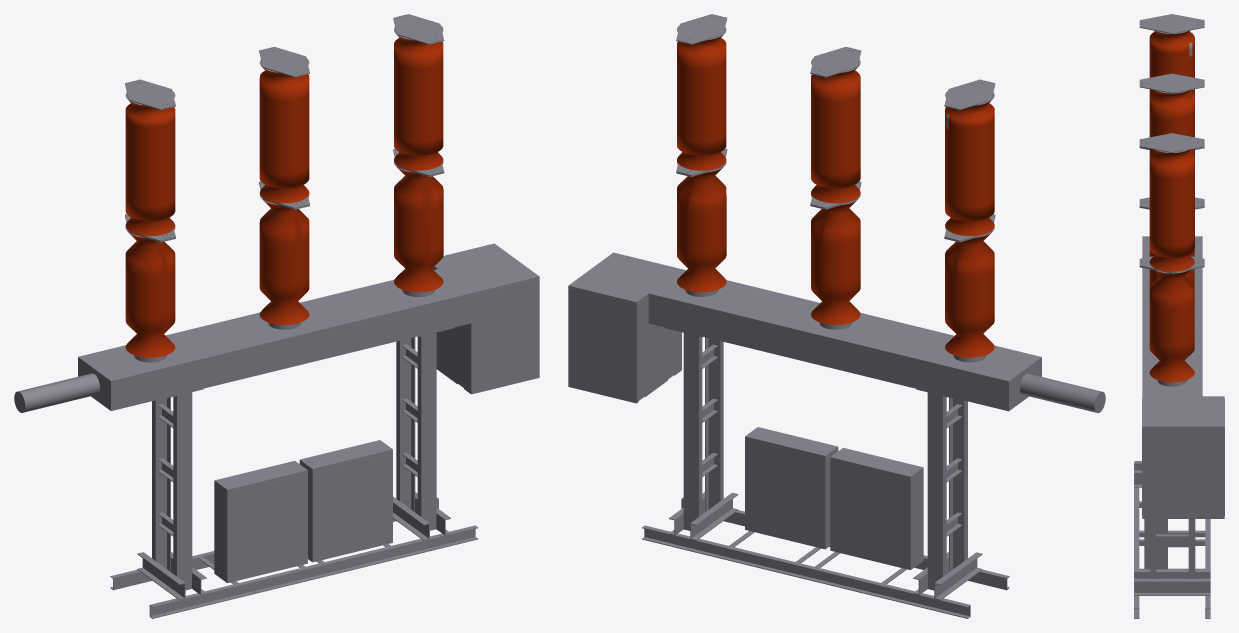
File: Б110-42-1,4-1000 БУХЛ1 ВГТ-110.fbx
The picture shows the model from 3 angles, left to right: view 1: azimuth 30°, elevation 25°; view 2: azimuth 150°, elevation 25°; view 3: azimuth 270°, elevation 25°; orthographic projection. The views are drawn at different scales.
Visible parts, largest first — view 1: Б110-42-1,4-1000 БУХЛ1; view 2: Б110-42-1,4-1000 БУХЛ1; view 3: Б110-42-1,4-1000 БУХЛ1.
Boxes of the visible parts, x1,y1,x2,y2 form: Б110-42-1,4-1000 БУХЛ1: (14, 14, 539, 618); Б110-42-1,4-1000 БУХЛ1: (568, 14, 1105, 618); Б110-42-1,4-1000 БУХЛ1: (1134, 14, 1224, 618).
Bounding box in the file's own units: 5256 × 5034 × 902.
